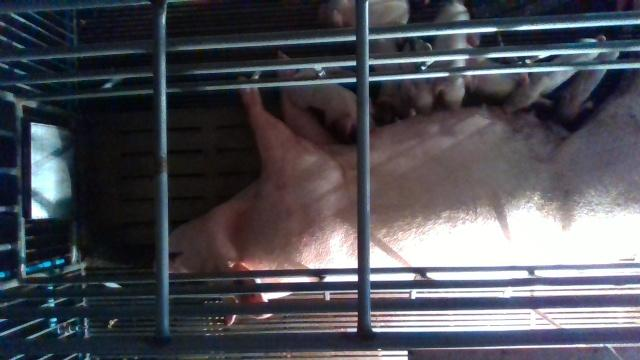piglet: (502, 34, 607, 116), (289, 69, 374, 136), (558, 49, 619, 122), (435, 0, 474, 109), (404, 38, 448, 114), (372, 38, 408, 115), (324, 0, 412, 28)
sow-sleep-lactate: (169, 78, 640, 326)
